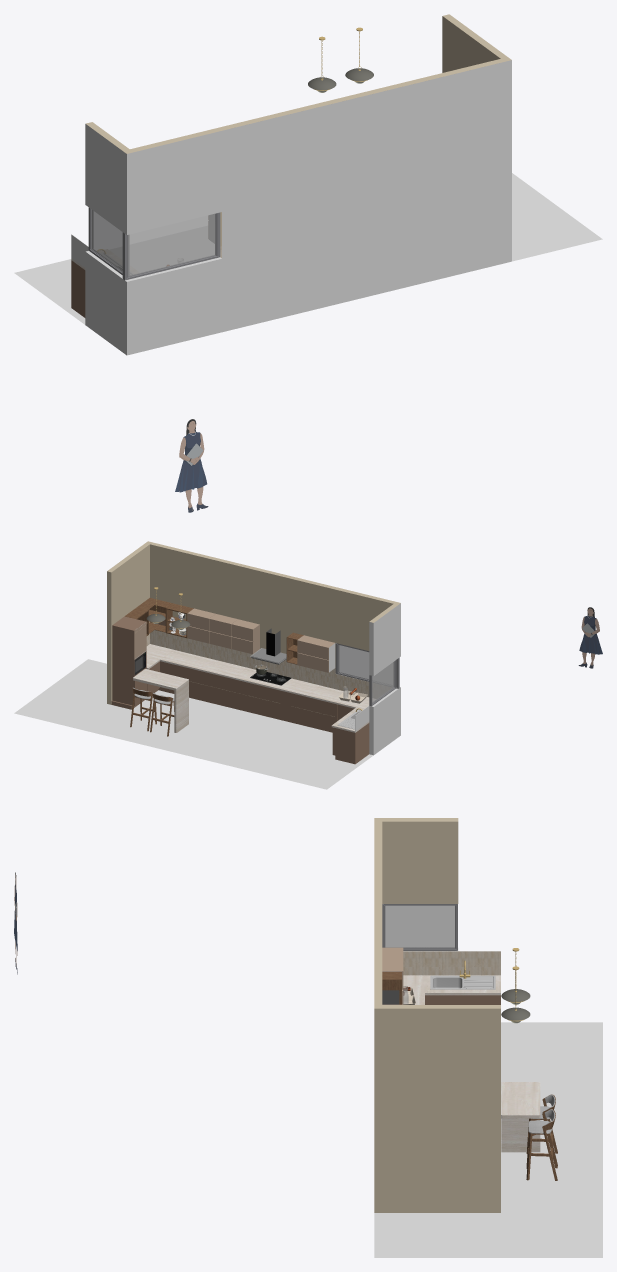
File: studio-kitchen.web.glb
3 renders of one model, top to bottom at view 1: azimuth 30°, elevation 25°; view 2: azimuth 150°, elevation 25°; view 3: azimuth 270°, elevation 25°, orthographic. The views are drawn at different scales.
Visible parts, largest first — view 1: Geom3D (×4), Geom3D_ (×3); view 2: Geom3D_ (×14), Geom3D (×6); view 3: Geom3D_ (×5), Geom3D (×3).
Part boxes in pixels (x1,y1,x2,y2): Geom3D (×4): [71, 59, 511, 355]; Geom3D_ (×3): [14, 14, 602, 324]; Geom3D_ (×14): [14, 541, 375, 789]; Geom3D (×6): [146, 542, 400, 755]; Geom3D_ (×5): [374, 975, 602, 1257]; Geom3D (×3): [374, 818, 500, 1004].
Size of what is drawn, in the model's own units: 10.85 by 3.45 by 9.02.
82 materials, 25 textured.
